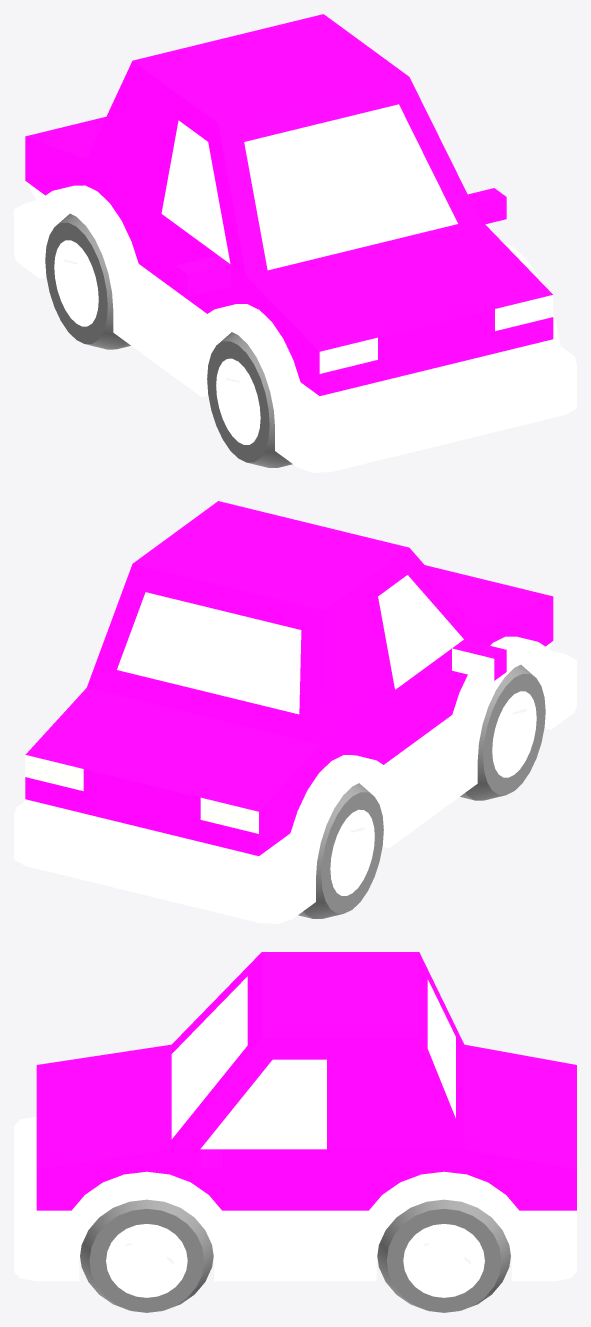
File: car_pink.glb
3 views of the same model, one above another, from view 1: azimuth 30°, elevation 25°; view 2: azimuth 150°, elevation 25°; view 3: azimuth 270°, elevation 25° (orthographic). The views are drawn at different scales.
Parts seen in each view (by area): view 1: body, wheel.001, wheel; view 2: body, wheel, wheel.001; view 3: body, wheel.002, wheel.003.
Part boxes in pixels (<box>): body: <box>14,14,576,472</box>; wheel.001: <box>45,213,130,349</box>; wheel: <box>207,332,292,467</box>; body: <box>14,501,576,923</box>; wheel: <box>460,665,545,800</box>; wheel.001: <box>298,783,383,918</box>; body: <box>14,952,576,1281</box>; wheel.002: <box>80,1199,213,1312</box>; wheel.003: <box>377,1199,510,1312</box>.
Bounding box in the file's own units: 1.5 × 1.3 × 2.5.
